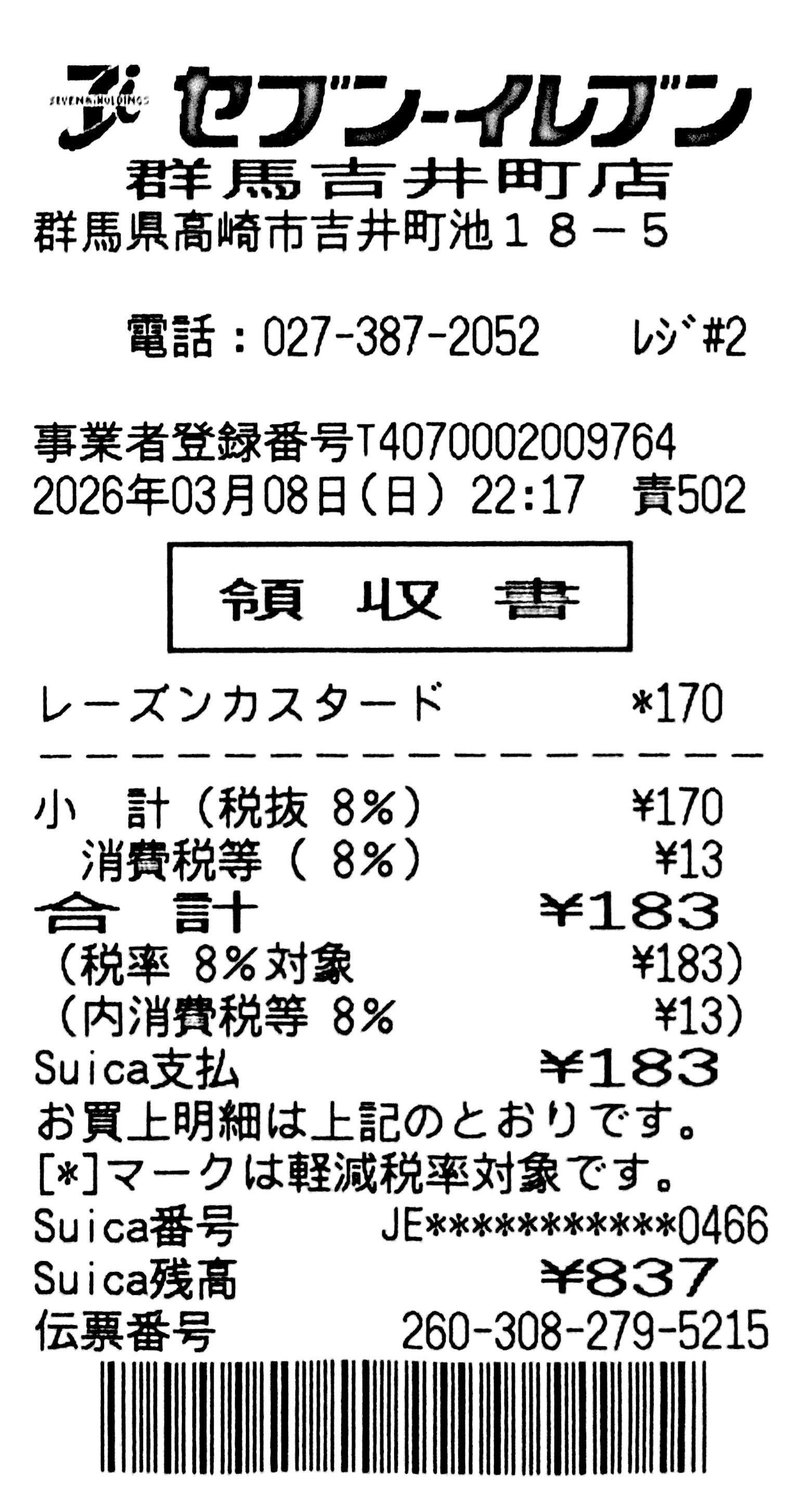Date: (34, 472, 346, 517)
Pay: (33, 889, 720, 936)
Shopname: (172, 64, 753, 148)
Telnum: (263, 313, 541, 359)
